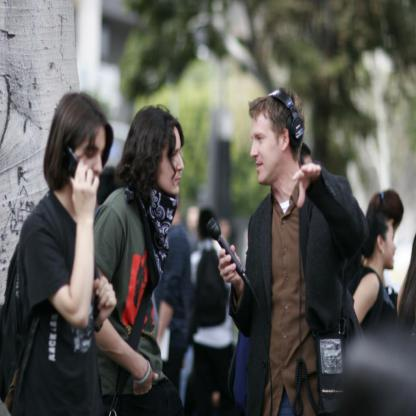face: (251, 119, 281, 185), (74, 129, 106, 187), (159, 129, 185, 195), (384, 222, 397, 269), (303, 153, 314, 190)
